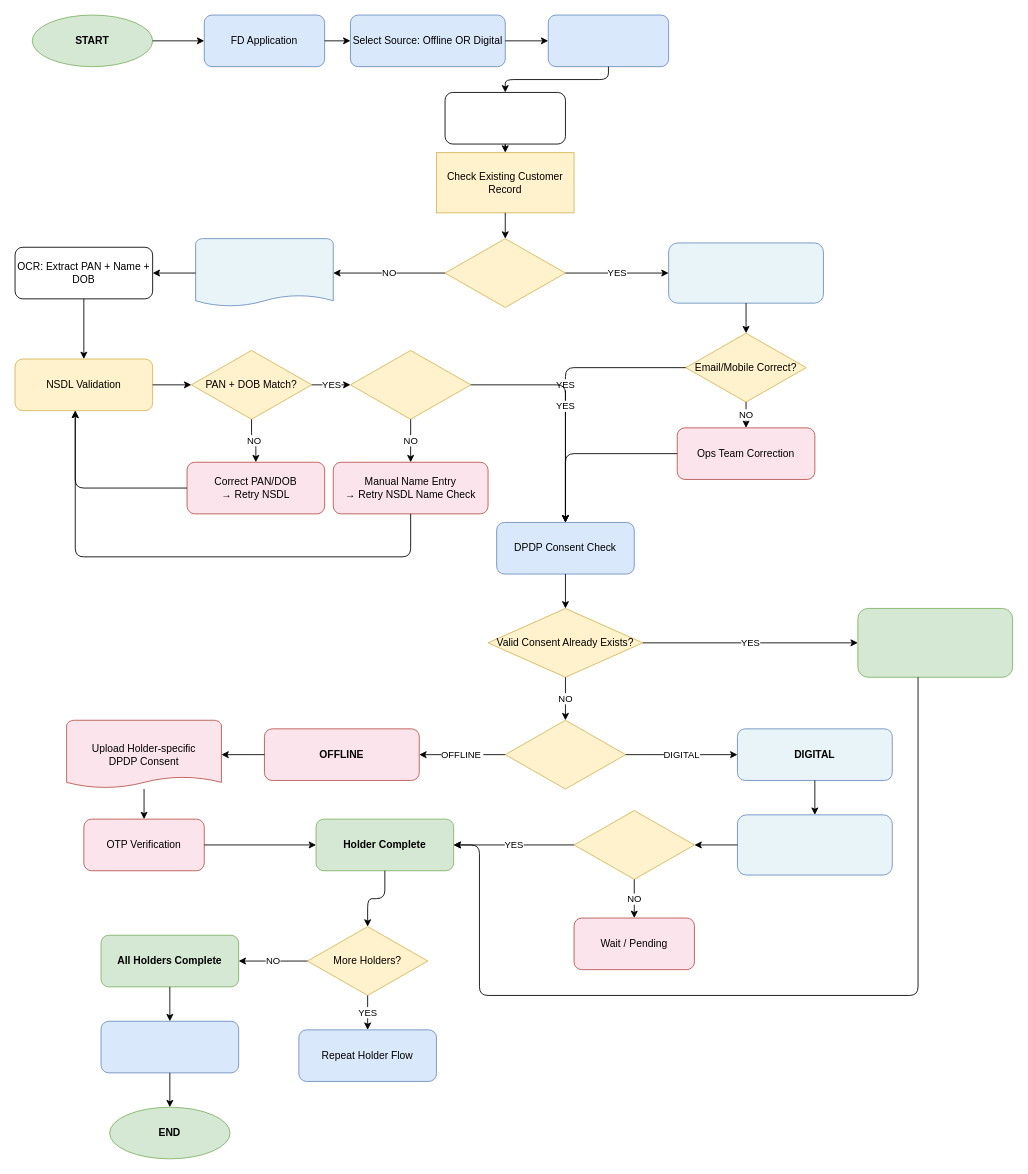
The diagram is 1028 pixels wide and 1174 high, and some of its shapes have lost their labels. The box of each missing label's shape, as (x1, y1, x2, y2) in pixels:
Enter PAN + DOB: (444, 92, 565, 144)
Existing Customer?: (444, 238, 565, 307)
FD Application Entry: (100, 1020, 239, 1073)
Holder Accepted?: (573, 810, 694, 879)
Name Match?: (350, 350, 471, 419)
Process Holder (Maximum 3): (547, 14, 669, 67)
Send DPDP Consent Link to Mobile + Email: (737, 814, 892, 875)
Send Notification No Re-upload/Re-consent Continue: (857, 608, 1013, 677)
Show Folio + Name + Masked Email + Masked Mobile: (668, 242, 823, 303)
Source?: (504, 719, 626, 789)
Upload PAN Document + Email + Mobile: (195, 238, 333, 307)
